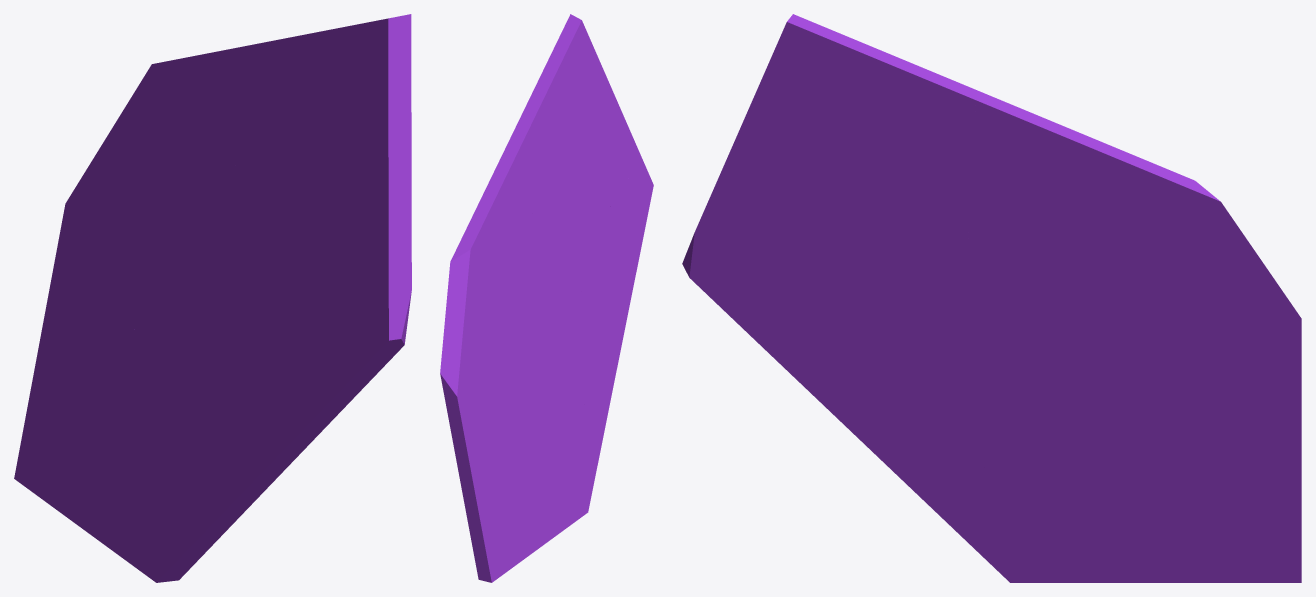
The model's file is Window_3_14_chunks.fbx.
The picture shows the model from 3 angles, left to right: view 1: azimuth 30°, elevation 25°; view 2: azimuth 150°, elevation 25°; view 3: azimuth 270°, elevation 25°; orthographic projection. The views are drawn at different scales.
Parts seen in each view (by area): view 1: Window_3_14_1, Window_3_14_3, Window_3_14_5, Window_3_14_2, Window_3_14_6, Window_3_14_0, Window_3_14_8, Window_3_14_9, Window_3_14_4; view 2: Window_3_14_1, Window_3_14_3, Window_3_14_5, Window_3_14_0, Window_3_14_2, Window_3_14_6, Window_3_14_8, Window_3_14_9, Window_3_14_4; view 3: Window_3_14_1, Window_3_14_3, Window_3_14_0, Window_3_14_5, Window_3_14_6, Window_3_14_2, Window_3_14_9, Window_3_14_4, Window_3_14_8, Window_3_14_7.
Boxes of the visible parts, x1,y1,x2,y2 form: Window_3_14_1: [223, 14, 411, 285]; Window_3_14_3: [14, 178, 143, 535]; Window_3_14_5: [81, 101, 234, 365]; Window_3_14_2: [92, 356, 213, 582]; Window_3_14_6: [188, 309, 330, 558]; Window_3_14_0: [129, 44, 254, 236]; Window_3_14_8: [298, 266, 411, 416]; Window_3_14_9: [229, 276, 329, 343]; Window_3_14_4: [187, 362, 220, 402]; Window_3_14_1: [518, 14, 641, 285]; Window_3_14_3: [440, 362, 544, 582]; Window_3_14_5: [441, 276, 571, 406]; Window_3_14_0: [446, 122, 545, 302]; Window_3_14_2: [531, 370, 596, 543]; Window_3_14_6: [565, 265, 632, 467]; Window_3_14_8: [608, 157, 653, 287]; Window_3_14_9: [560, 207, 610, 306]; Window_3_14_4: [555, 343, 577, 374]; Window_3_14_1: [703, 14, 1019, 288]; Window_3_14_3: [1107, 307, 1301, 582]; Window_3_14_0: [965, 100, 1250, 307]; Window_3_14_5: [987, 245, 1293, 415]; Window_3_14_6: [795, 328, 987, 554]; Window_3_14_2: [981, 466, 1129, 582]; Window_3_14_9: [781, 236, 988, 340]; Window_3_14_4: [983, 370, 1112, 494]; Window_3_14_8: [682, 213, 809, 311]; Window_3_14_7: [726, 288, 843, 377].
Size of the model in its own units: 195 by 821 by 743.
